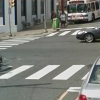crosswalk: (0, 64, 85, 79), (0, 36, 40, 49), (45, 29, 80, 37)
